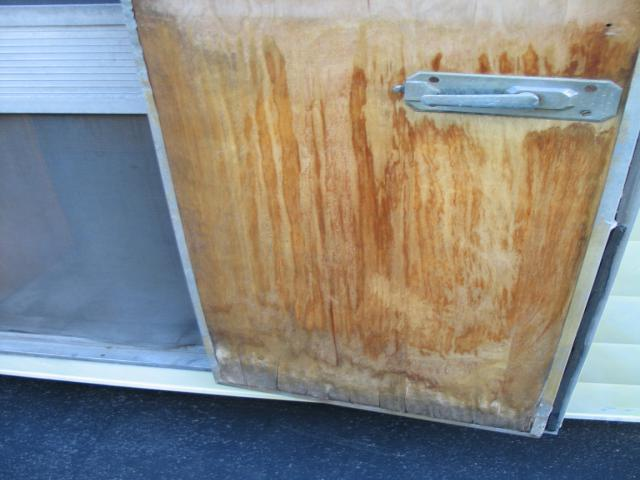Door-handle: (387, 71, 630, 122)
